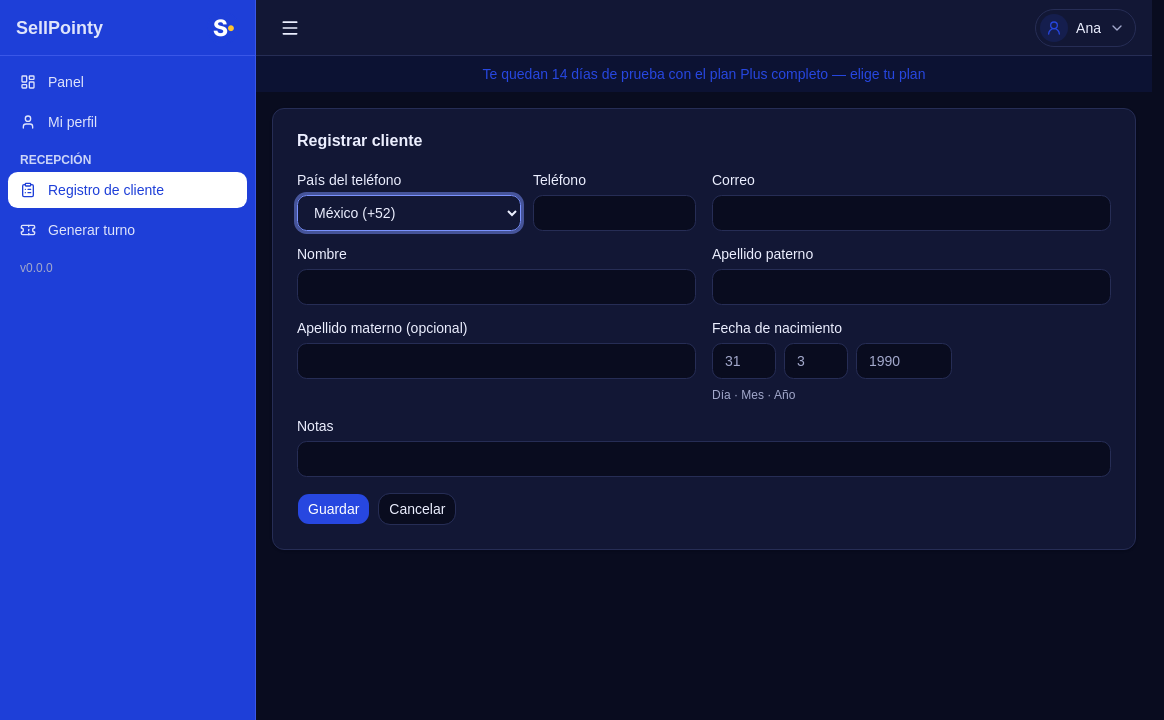
Test case: los apellidos según el país del negocio (F1-NAME-09) › una fecha futura tampoco: nadie nació el año que viene
This screenshot has width=1164, height=720.
Step 1. Type "Rosa" into the field labelled "Nombre" → (496, 287), box [297, 269, 696, 305]
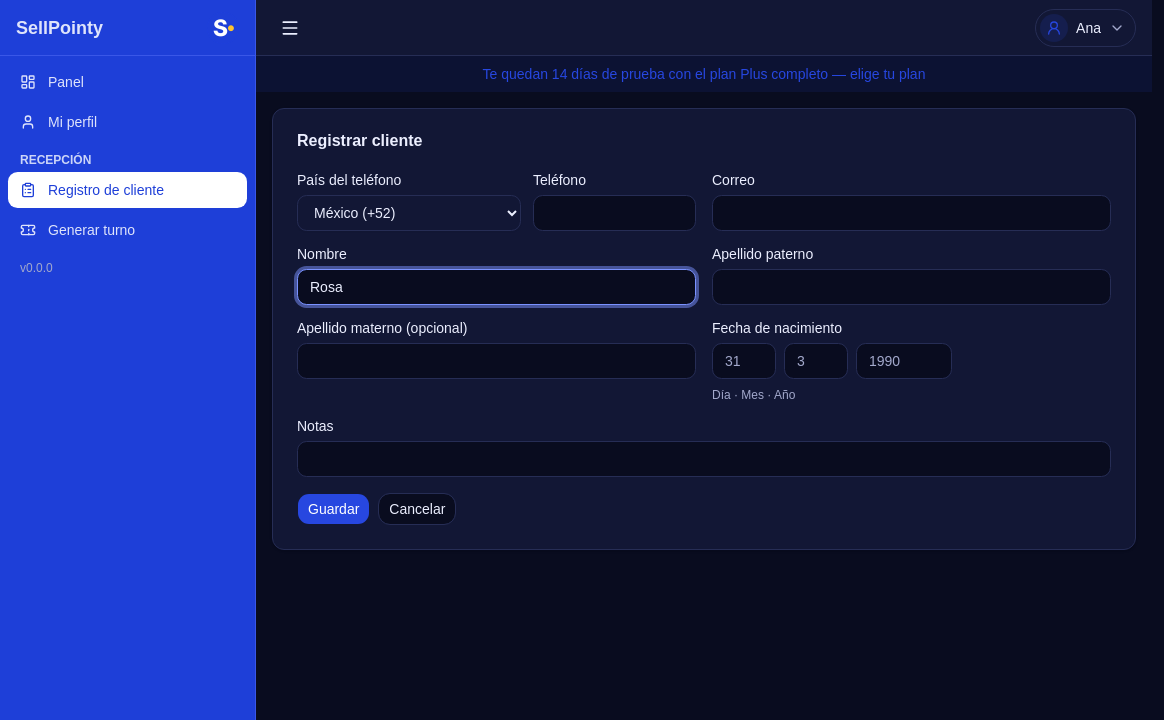
Step 2. Type "Vega" into the field labelled "Apellido paterno" → (912, 287), box [712, 269, 1111, 305]
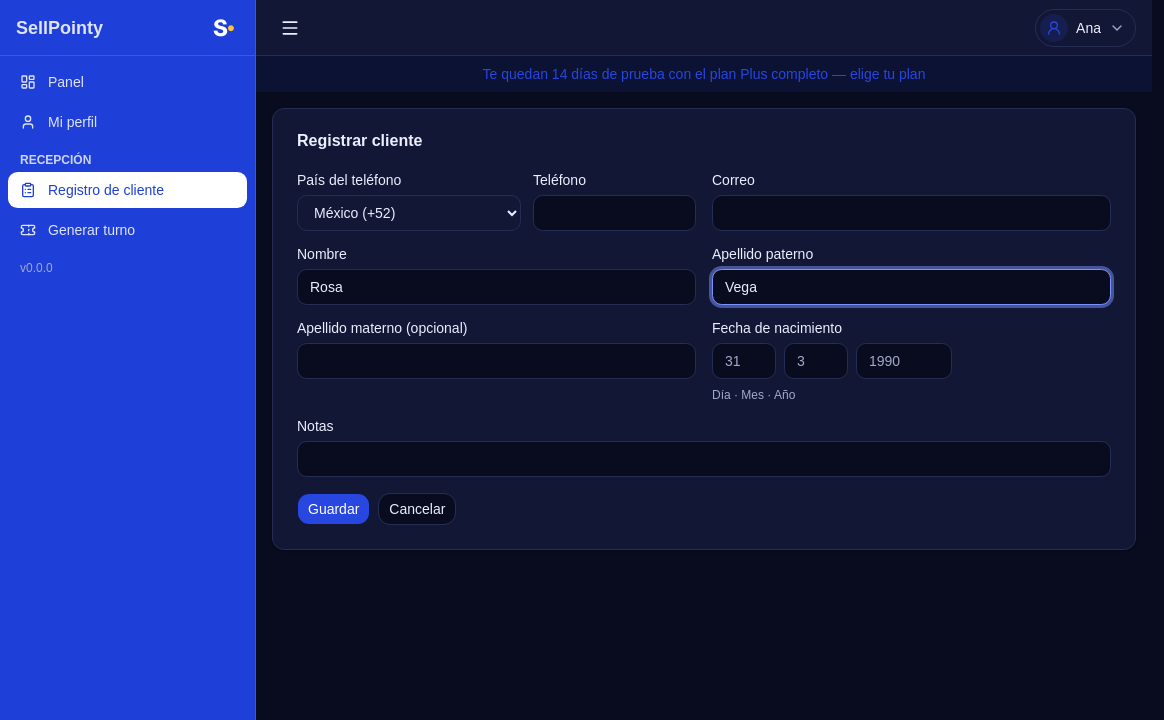
Step 3. Type "15" into the field named "Día" → (744, 361), box [712, 343, 776, 379]
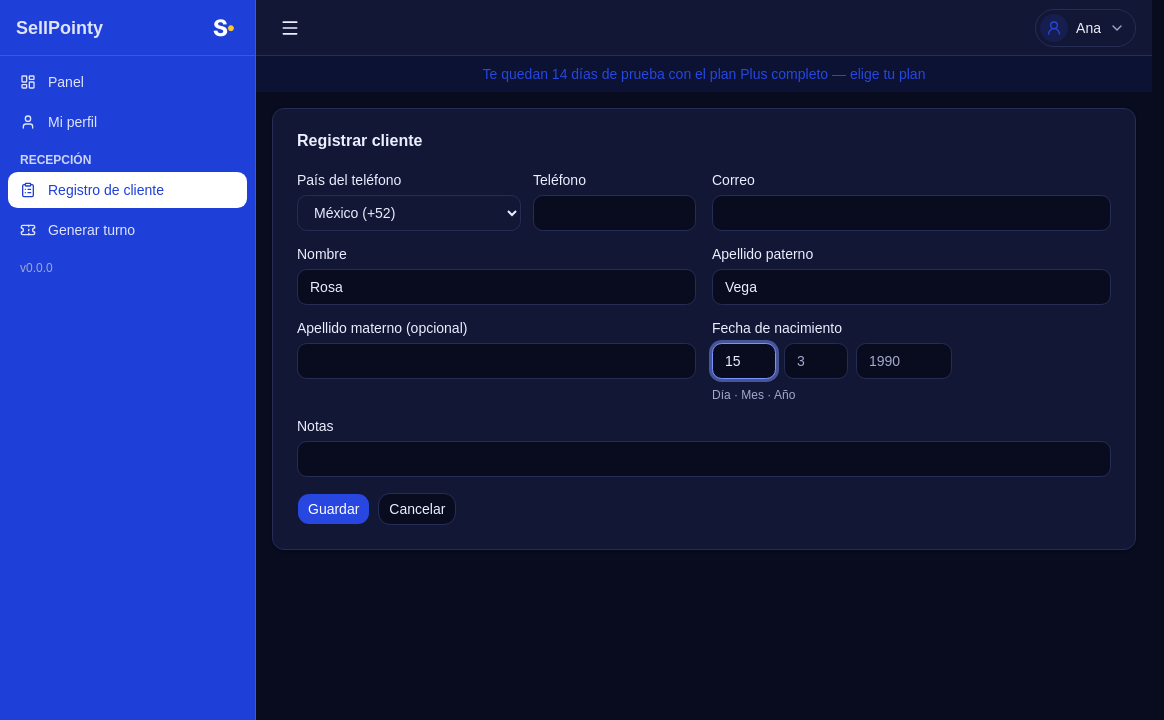
Step 4. Type "6" into the field named "Mes" → (816, 361), box [784, 343, 848, 379]
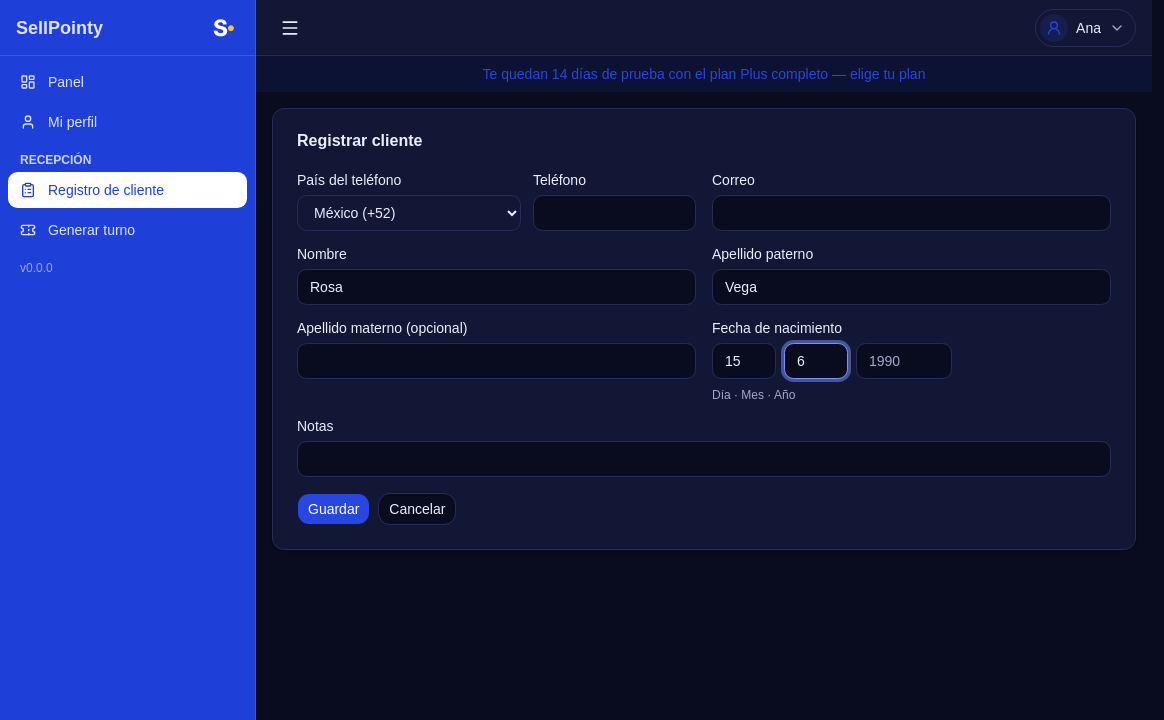
Step 5. Type "2050" into the field named "Año" → (904, 361), box [856, 343, 952, 379]
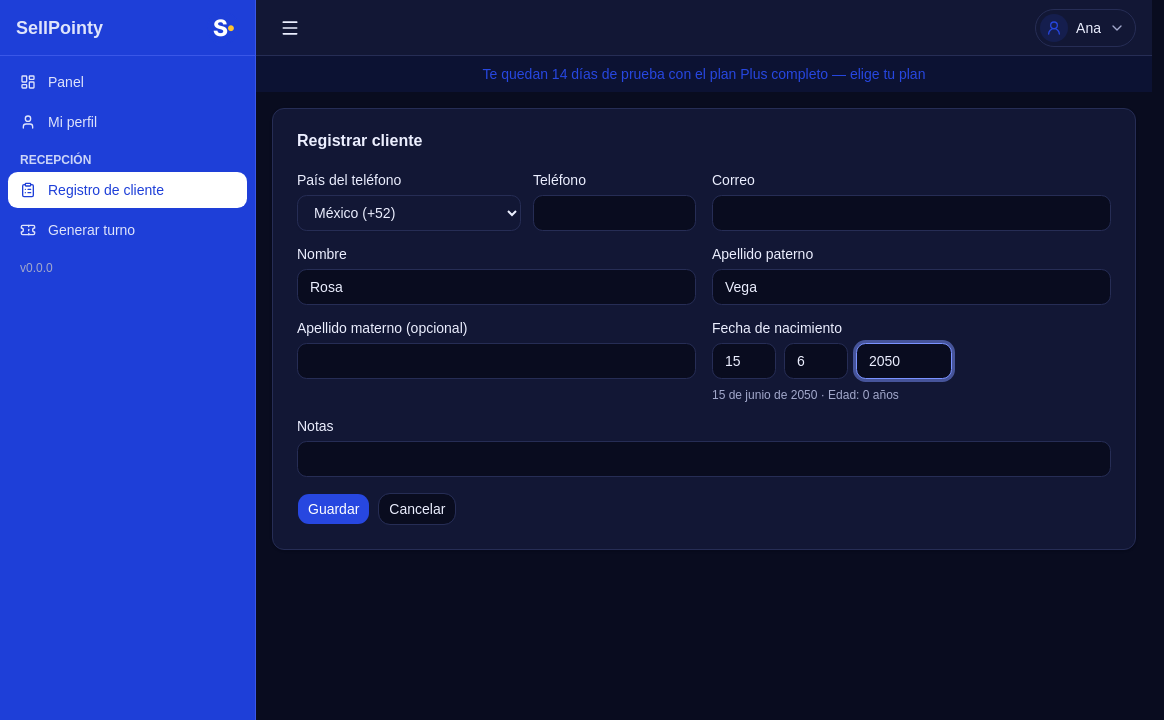
Step 6. Click the button "Guardar" → (334, 509), box [297, 493, 370, 525]
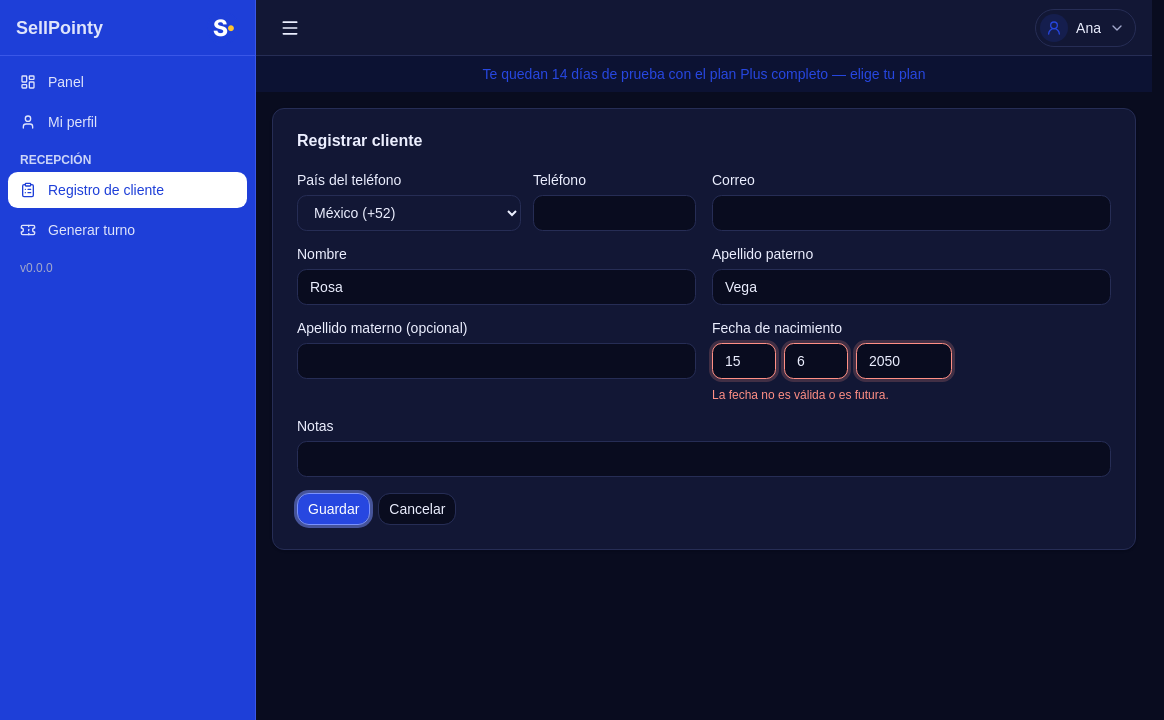
Now the text "La fecha no es válida o es futura." is shown, box [712, 388, 889, 402]
